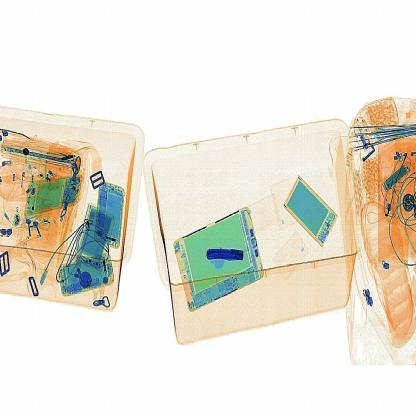knife: (201, 238, 251, 264)
